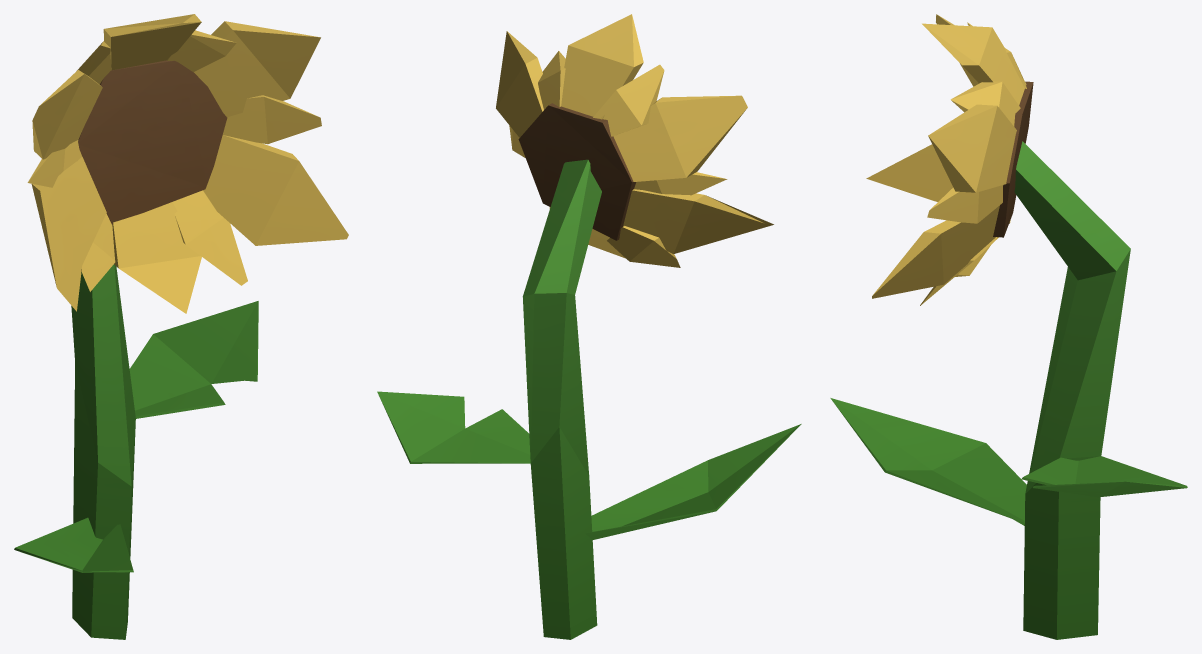
The model's file is plant_flower_sunflower.fbx.
3 renders of one model, left to right at view 1: azimuth 30°, elevation 25°; view 2: azimuth 150°, elevation 25°; view 3: azimuth 270°, elevation 25°, orthographic. The views are drawn at different scales.
Parts seen in each view (by area): view 1: plant_flower_sunflower; view 2: plant_flower_sunflower; view 3: plant_flower_sunflower.
Boxes of the visible parts, bbox=[...] form: plant_flower_sunflower: bbox=[14, 14, 348, 639]; plant_flower_sunflower: bbox=[377, 14, 801, 639]; plant_flower_sunflower: bbox=[830, 14, 1187, 639].
Bounding box in the file's own units: 0.4 × 0.7501 × 0.4.
1 material, 1 textured.
